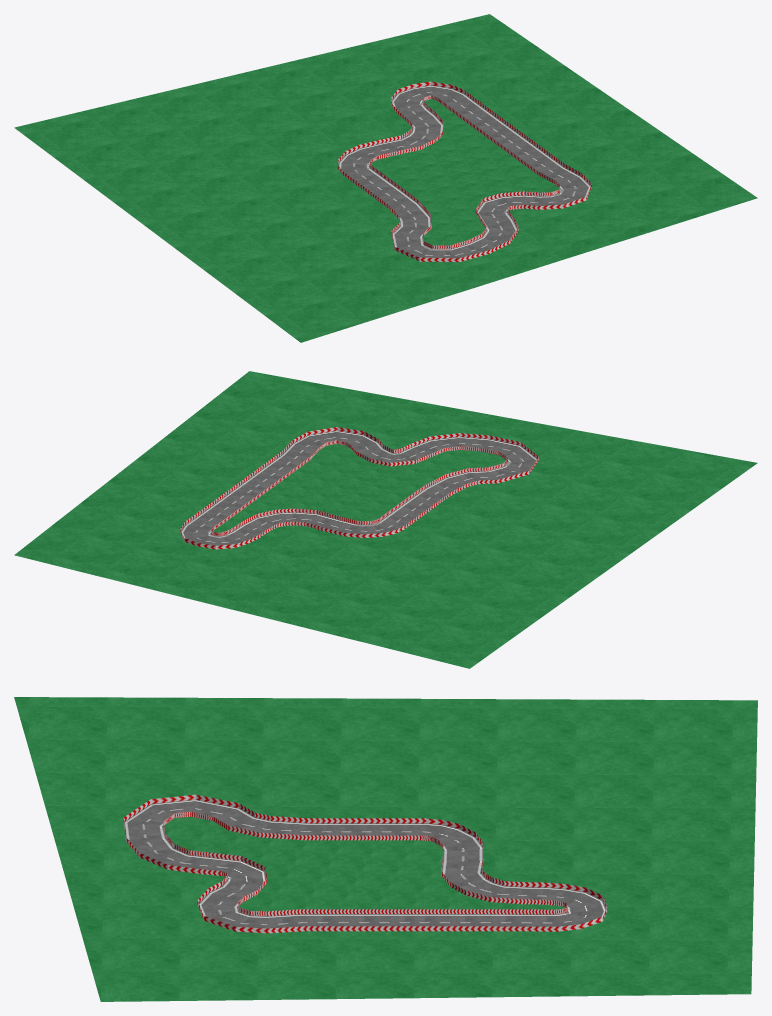
File: track1 (1).glb
The picture shows the model from 3 angles, top to bottom: view 1: azimuth 30°, elevation 25°; view 2: azimuth 150°, elevation 25°; view 3: azimuth 270°, elevation 25°; orthographic projection. The views are drawn at different scales.
Parts seen in each view (by area): view 1: Plane; view 2: Plane; view 3: Plane.
Boxes of the visible parts, x1=… form: Plane: x1=14, y1=14, x2=757, y2=342; Plane: x1=14, y1=371, x2=757, y2=668; Plane: x1=14, y1=697, x2=757, y2=1001.
Size of the model in its own units: 35.45 by 0.2649 by 36.54.
Materials: 3 (3 with a texture image).
